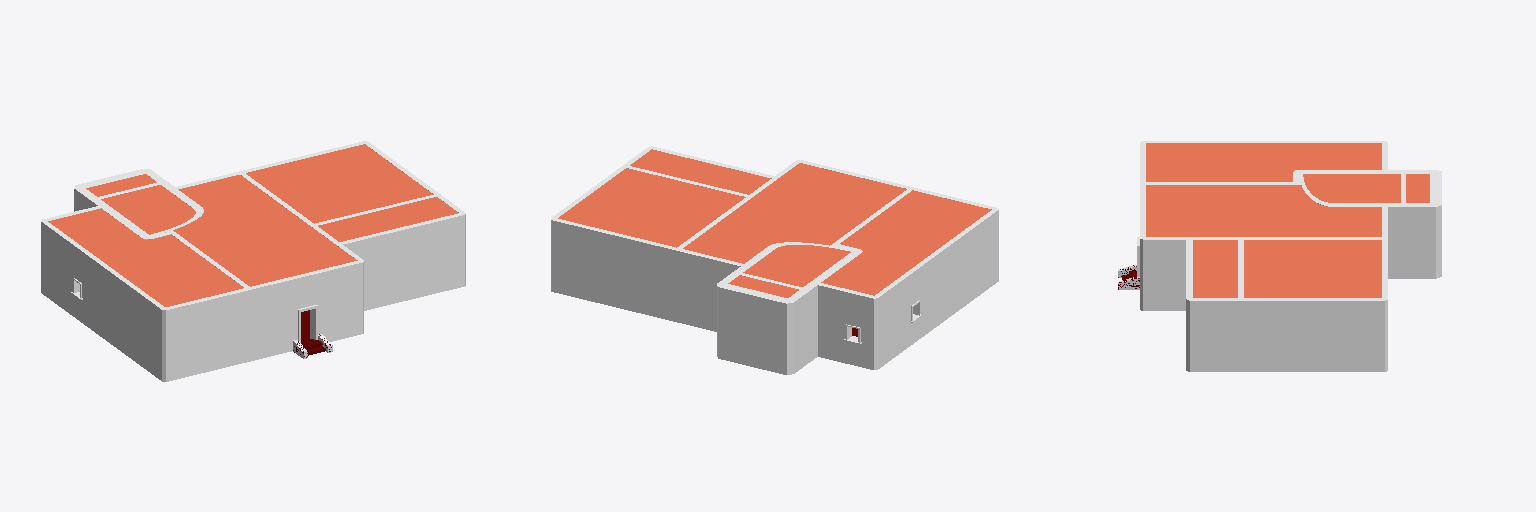
The model's file is Apartment_One_Finished.obj.
3 views of the same model, side by side, from view 1: azimuth 30°, elevation 25°; view 2: azimuth 150°, elevation 25°; view 3: azimuth 270°, elevation 25° (orthographic).
Parts seen in each view (by area): view 1: wall_corner_257, wall_corner_330, wall_corner_144, floor_square_392, wall_straight_332, wall_straight_349, wall_straight_331, wall_straight_163, wall_straight_160, wall_straight_259, wall_doorwaySquare_164, floor_square_402 (+28 smaller); view 2: wall_straight_151, wall_straight_341, wall_corner_353, wall_straight_149, wall_straight_354, floor_square_392, wall_straight_261, wall_straight_355, wall_straight_154, wall_straight_364, floor_square_402, wall_straight_338 (+28 smaller); view 3: wall_straight_289, wall_corner_350, wall_corner_353, wall_straight_352, wall_straight_351, wall_straight_334, floor_square_392, wall_corner_144, wall_corner_256, wall_straight_284, wall_straight_280, wall_straight_145 (+28 smaller).
Part boxes in pixels (bbox=[...]): wall_corner_257: bbox=[136, 314, 205, 381]; wall_corner_330: bbox=[136, 290, 205, 360]; wall_corner_144: bbox=[425, 236, 465, 295]; floor_square_392: bbox=[103, 174, 195, 220]; wall_straight_332: bbox=[243, 279, 287, 340]; wall_straight_349: bbox=[380, 222, 425, 285]; wall_straight_331: bbox=[203, 288, 246, 348]; wall_straight_163: bbox=[327, 284, 362, 341]; wall_straight_160: bbox=[206, 312, 246, 371]; wall_straight_259: bbox=[381, 246, 424, 306]; wall_doorwaySquare_164: bbox=[287, 292, 326, 351]; floor_square_402: bbox=[48, 208, 125, 239]; wall_straight_151: bbox=[717, 307, 793, 374]; wall_straight_341: bbox=[717, 283, 793, 353]; wall_corner_353: bbox=[551, 200, 595, 279]; wall_straight_149: bbox=[672, 271, 712, 330]; wall_straight_354: bbox=[592, 228, 634, 289]; floor_square_392: bbox=[728, 250, 817, 293]; wall_straight_261: bbox=[632, 261, 671, 320]; wall_straight_355: bbox=[631, 238, 674, 299]; wall_straight_154: bbox=[874, 301, 903, 369]; wall_straight_364: bbox=[834, 287, 877, 327]; floor_square_402: bbox=[821, 266, 896, 295]; wall_straight_338: bbox=[672, 247, 715, 309]; wall_straight_289: bbox=[1388, 228, 1435, 278]; wall_corner_350: bbox=[1186, 279, 1243, 350]; wall_corner_353: bbox=[1334, 279, 1387, 350]; wall_straight_352: bbox=[1287, 298, 1335, 350]; wall_straight_351: bbox=[1241, 298, 1289, 350]; wall_straight_334: bbox=[1140, 237, 1195, 289]; floor_square_392: bbox=[1328, 182, 1429, 202]; wall_corner_144: bbox=[1186, 320, 1240, 371]; wall_corner_256: bbox=[1334, 321, 1387, 371]; wall_straight_284: bbox=[1287, 322, 1333, 371]; wall_straight_280: bbox=[1140, 260, 1185, 310]; wall_straight_145: bbox=[1241, 322, 1286, 371].
Bounding box in the file's own units: 8.19 × 1.7 × 6.96.